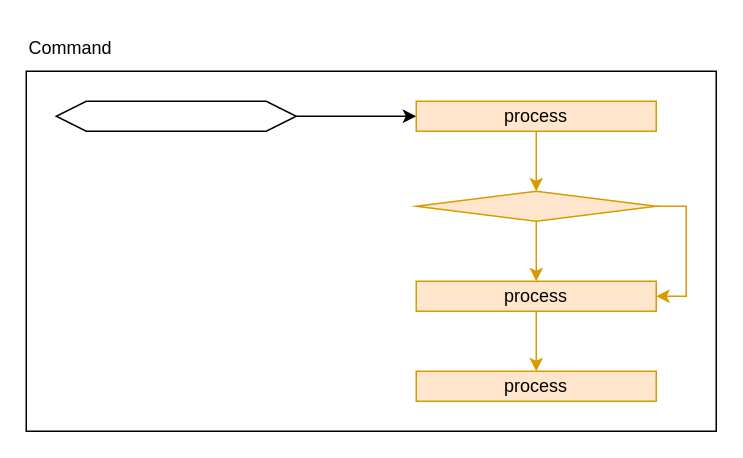
The diagram is 743 pixels wide and 458 high, and some of its shapes have lost their labels. The shapes that lost their labels are listed below. From the top down, each one's box as (x1, y1, x2, y2) in pixels, then its label:
(55, 100, 296, 131): 요청
(415, 190, 656, 221): 조건
